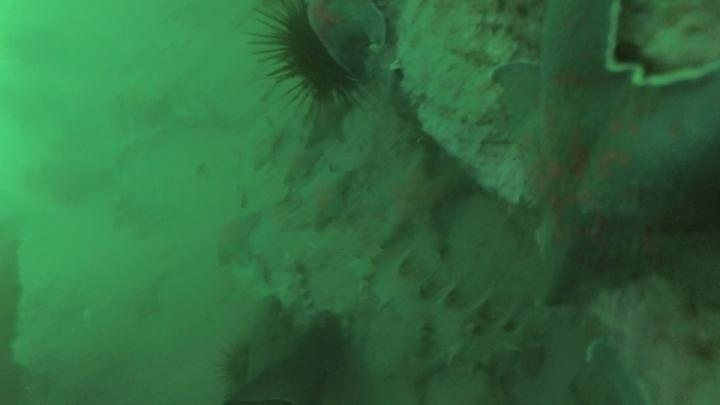echinus: (247, 2, 389, 115), (214, 338, 263, 391)
holothurian: (365, 250, 545, 380), (274, 256, 318, 335)
starfish: (485, 1, 720, 307), (366, 145, 469, 256), (292, 161, 356, 232), (210, 208, 264, 267), (224, 258, 275, 315), (247, 115, 284, 168), (285, 137, 320, 181), (272, 183, 301, 211)
